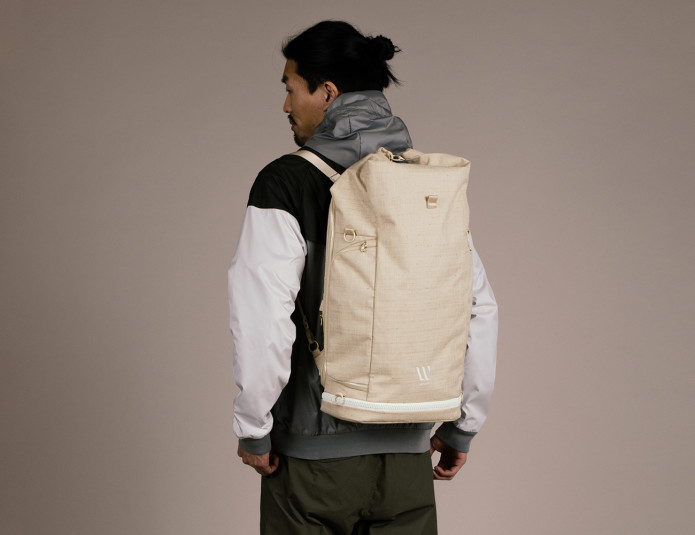backpack: (312, 145, 477, 428)
